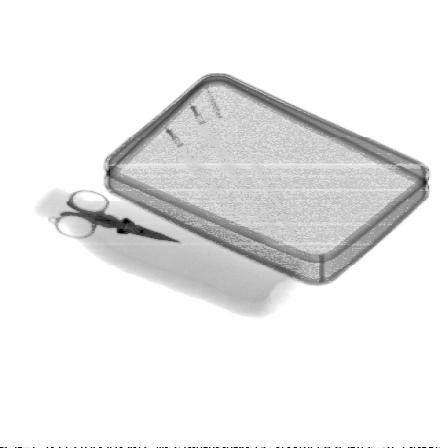Scissors: (51, 188, 181, 241)
